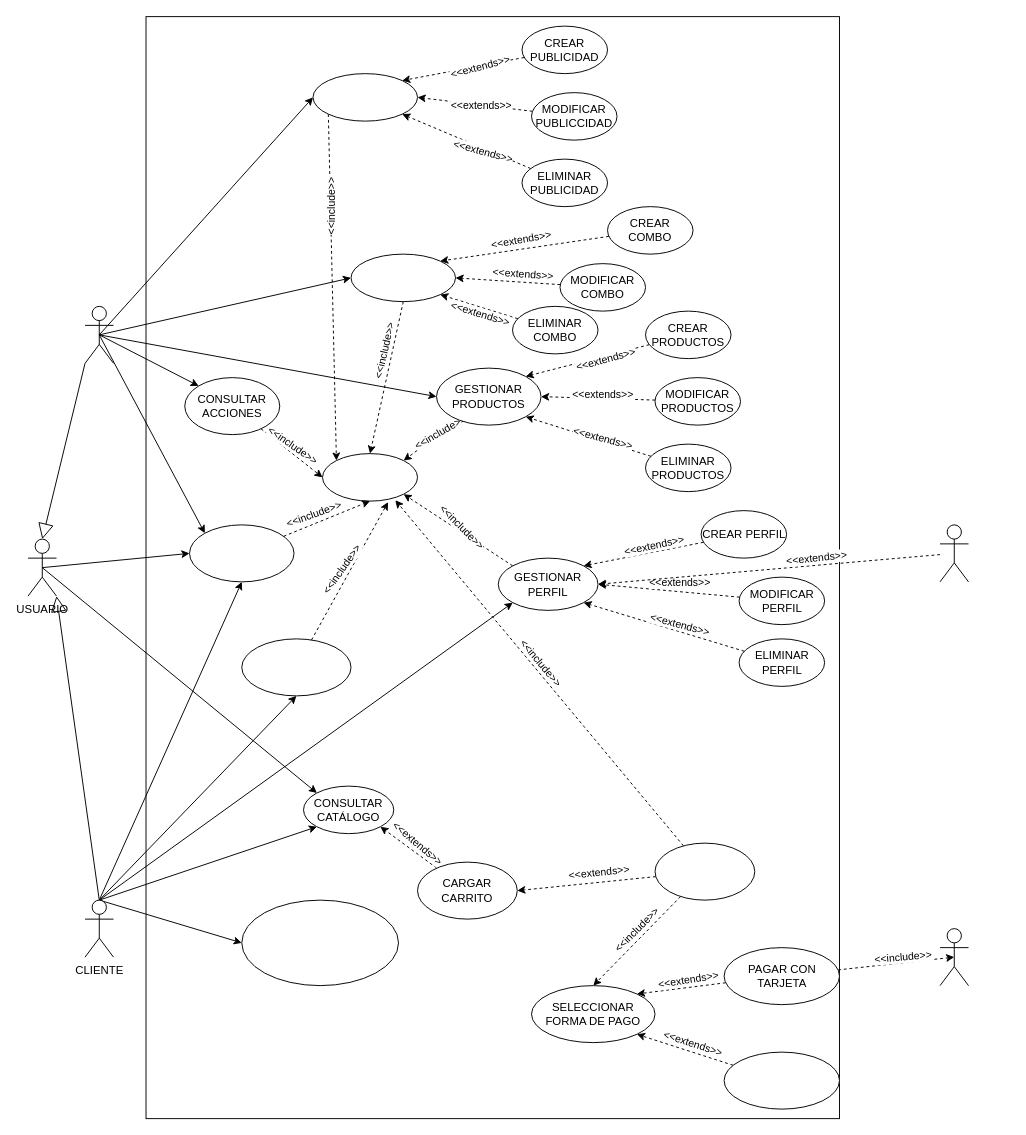
This 1026x1135 diagram has some shape labels left out. Each missing label, with the box of its shape:
ADMINISTRADOR: (84, 305, 114, 363)
COMPRAR CARRRITO: (654, 842, 755, 900)
CONSULTAR MANUAL DE USUARIO: (189, 524, 294, 582)
CONSULTAR PERFIL DE EMPRESA: (241, 899, 399, 986)
ENTIDAD BANCARIA: (939, 928, 969, 986)
GESTIONAR ACCIONES: (241, 638, 351, 696)
GESTIONAR COMBOS: (350, 253, 456, 302)
GESTIONAR PUBLICIDADES: (312, 73, 418, 121)
GOOGLE: (939, 524, 969, 582)
PAGAR EN EFECTIVO: (723, 1051, 840, 1109)
VERIFICAR IDENTIDAD: (322, 453, 418, 501)
